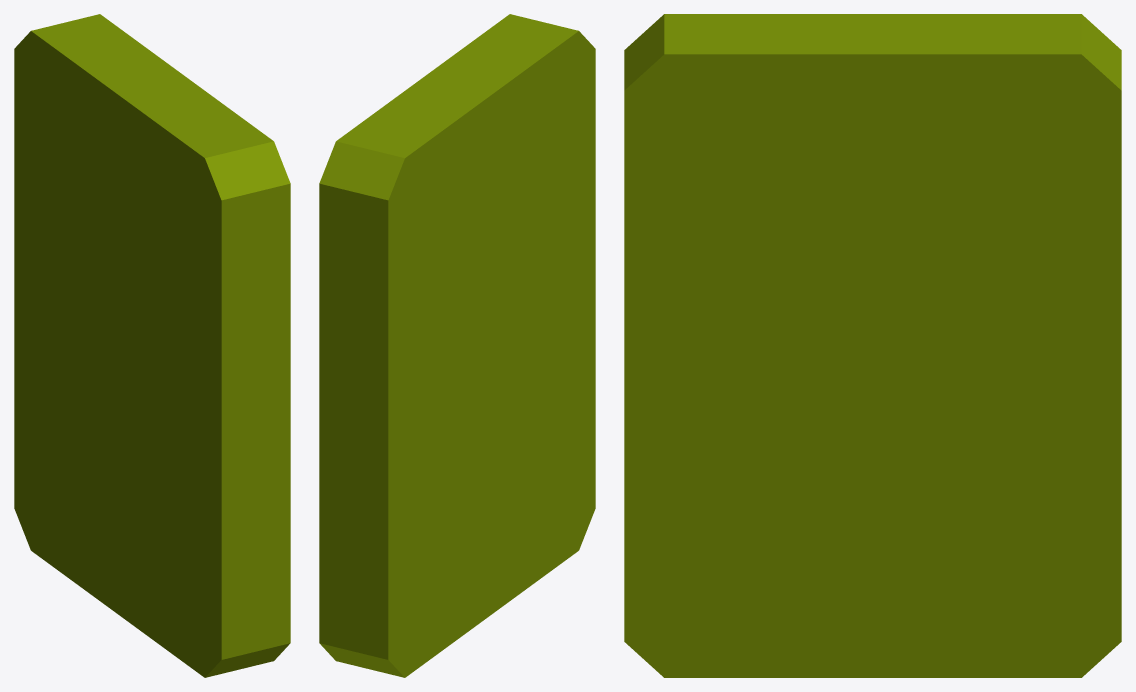
Rendered from SM_Poteausign2.fbx.
3 renders of one model, left to right at view 1: azimuth 30°, elevation 25°; view 2: azimuth 150°, elevation 25°; view 3: azimuth 270°, elevation 25°, orthographic. The views are drawn at different scales.
Parts seen in each view (by area): view 1: Poteausign2; view 2: Poteausign2; view 3: Poteausign2.
Boxes of the visible parts, x1=… form: Poteausign2: x1=14, y1=14, x2=290, y2=677; Poteausign2: x1=319, y1=14, x2=595, y2=677; Poteausign2: x1=624, y1=14, x2=1121, y2=677.
Bounding box in the file's own units: 5.55 × 39.84 × 28.78.
